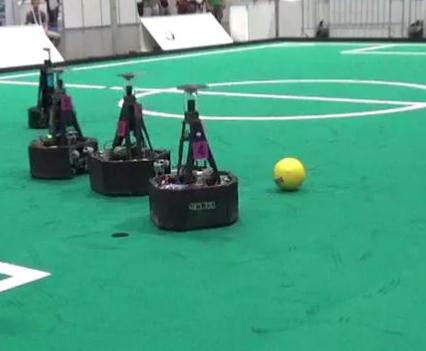robot: (146, 82, 243, 231), (85, 67, 174, 198), (28, 63, 101, 184)
